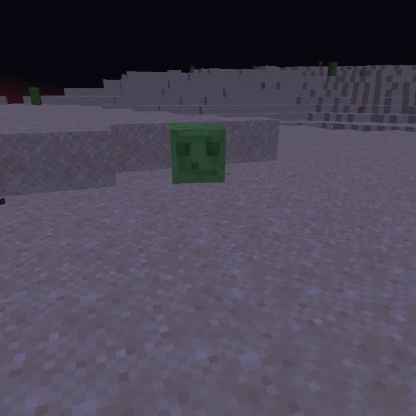slime: (168, 121, 228, 188)
